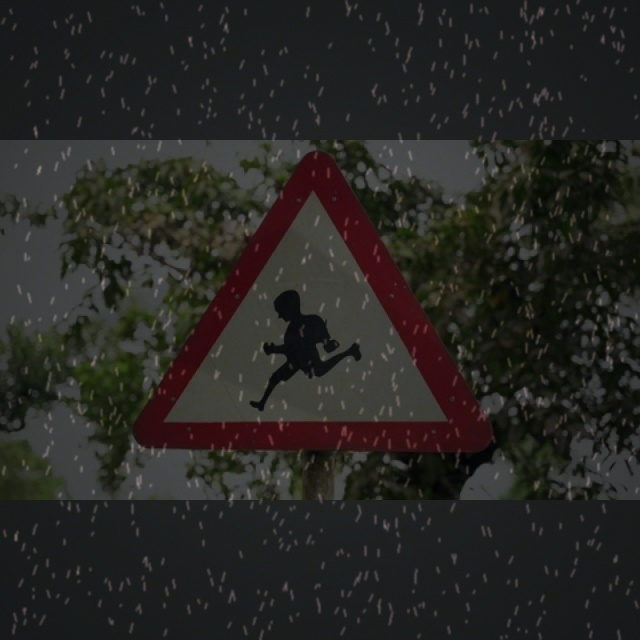School_Ahead: (147, 155, 489, 452)
